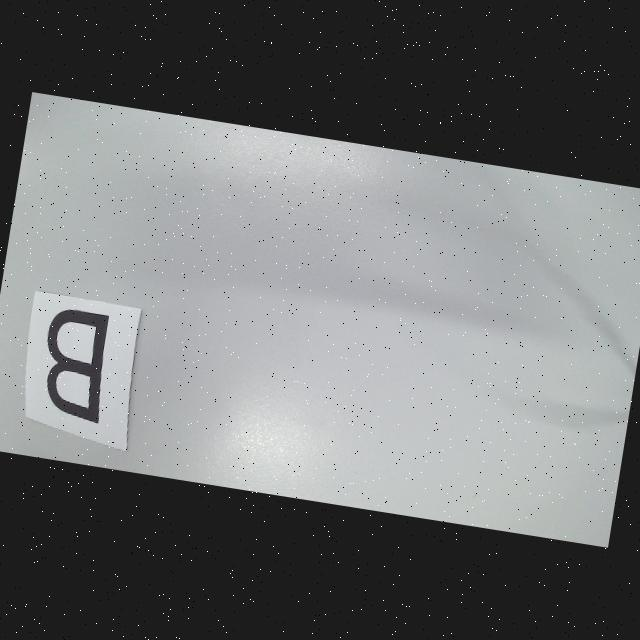FAKE: (36, 305, 116, 424)
